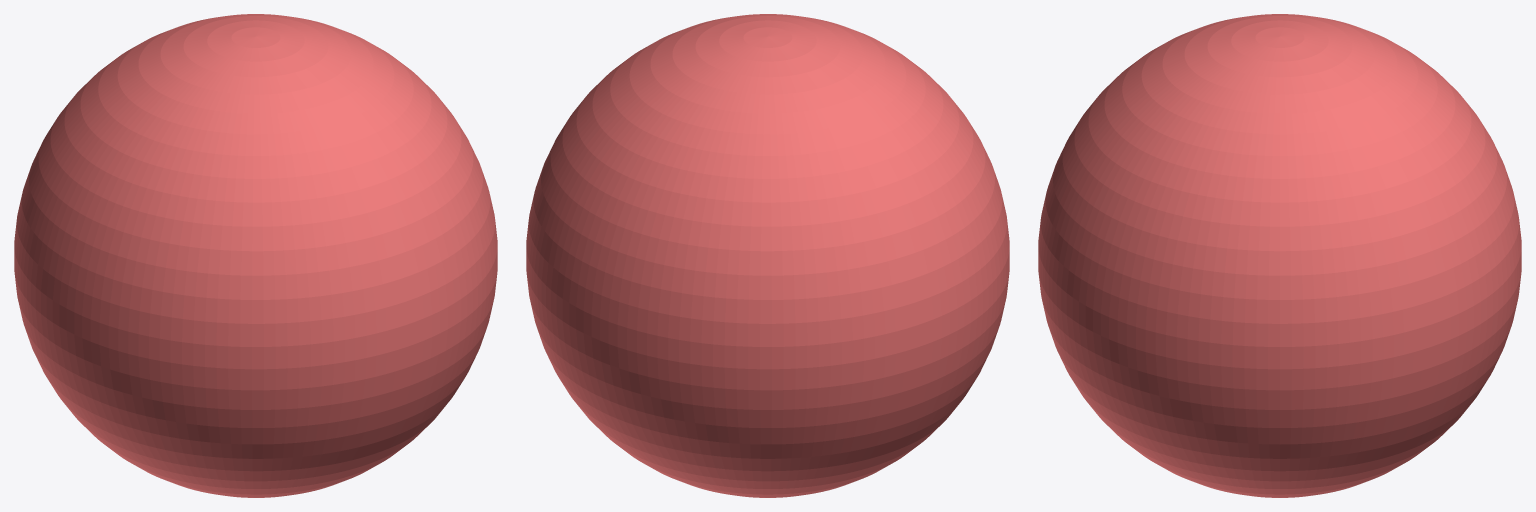
The model's file is ball_red.glb.
3 renders of one model, left to right at view 1: azimuth 30°, elevation 25°; view 2: azimuth 150°, elevation 25°; view 3: azimuth 270°, elevation 25°, orthographic.
Visible parts, largest first — view 1: geometry_0; view 2: geometry_0; view 3: geometry_0.
Part boxes in pixels (bbox=[...]): geometry_0: bbox=[14, 14, 497, 497]; geometry_0: bbox=[526, 14, 1009, 497]; geometry_0: bbox=[1038, 14, 1521, 497].
Size of the model in its own units: 0.2197 by 0.22 by 0.2197.
